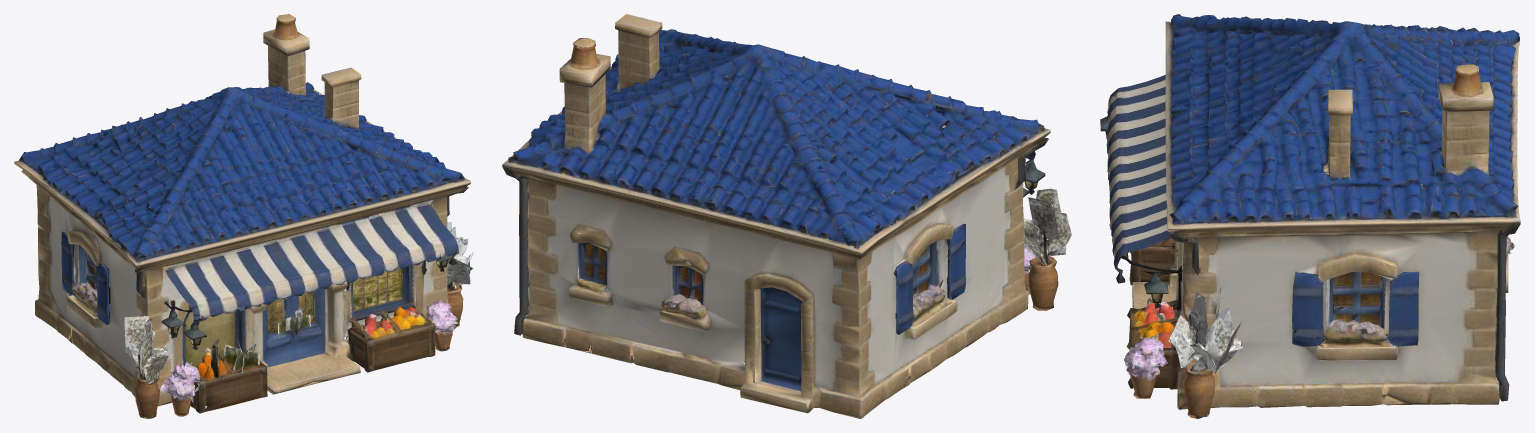
3 renders of one model, left to right at view 1: azimuth 30°, elevation 25°; view 2: azimuth 150°, elevation 25°; view 3: azimuth 270°, elevation 25°, orthographic. The views are drawn at different scales.
Parts seen in each view (by area): view 1: harbor__shop_1__native_mobile; view 2: harbor__shop_1__native_mobile; view 3: harbor__shop_1__native_mobile.
Part boxes in pixels (x1,y1,x2,y2): harbor__shop_1__native_mobile: [14, 14, 473, 418]; harbor__shop_1__native_mobile: [502, 14, 1071, 418]; harbor__shop_1__native_mobile: [1100, 14, 1520, 418].
Size of the model in its own units: 1 by 0.656 by 0.7928.
Materials: 1 (1 with a texture image).
